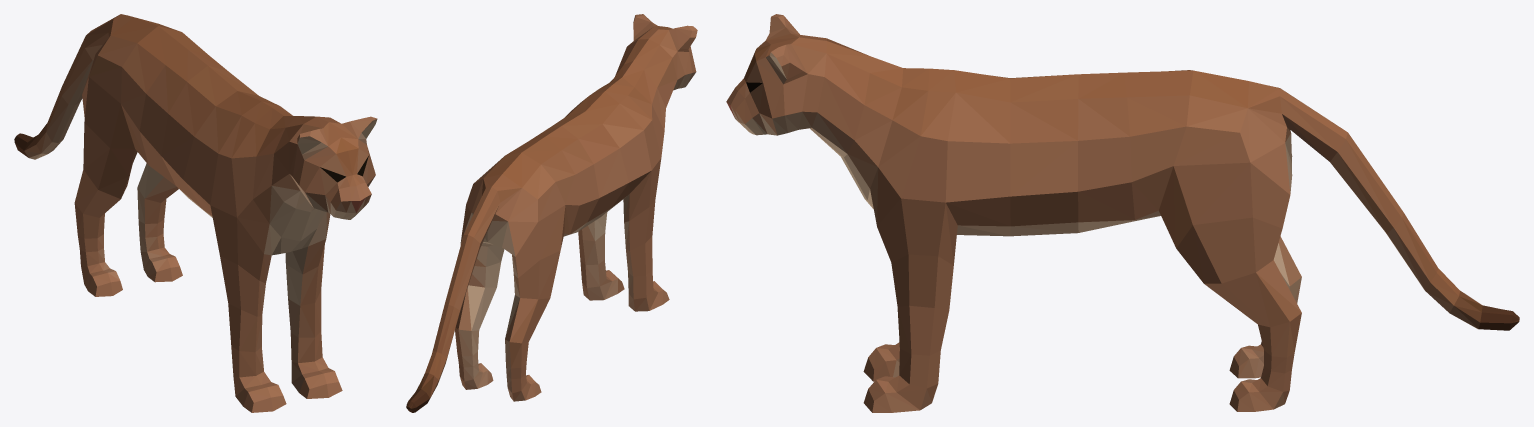
File: cougar.glb
The picture shows the model from 3 angles, left to right: view 1: azimuth 30°, elevation 25°; view 2: azimuth 150°, elevation 25°; view 3: azimuth 270°, elevation 25°; orthographic projection. The views are drawn at different scales.
Visible parts, largest first — view 1: Cougar_mesh; view 2: Cougar_mesh; view 3: Cougar_mesh.
Part boxes in pixels (<box>): Cougar_mesh: <box>14,14,377,412</box>; Cougar_mesh: <box>406,14,697,412</box>; Cougar_mesh: <box>726,14,1519,412</box>.
Bounding box in the file's own units: 2.33 × 6.2 × 12.56.
